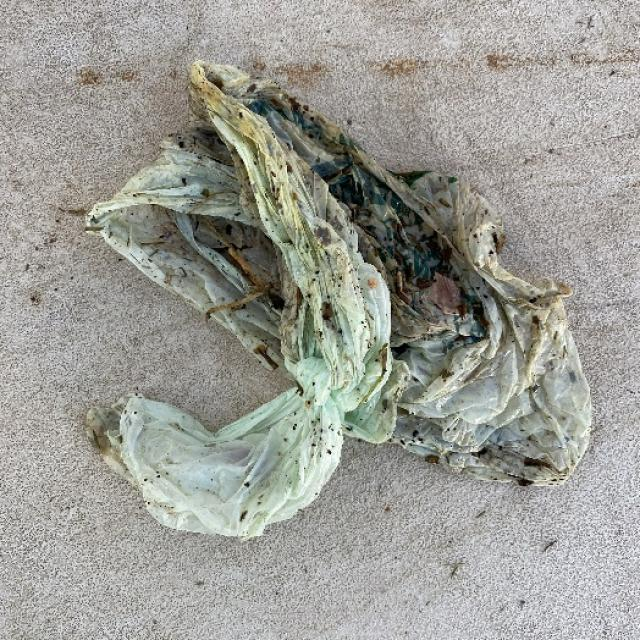organik: (95, 70, 581, 568)
